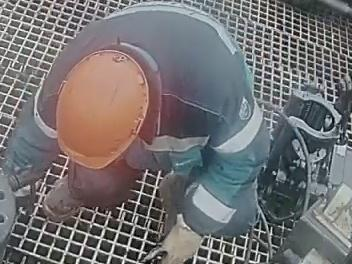gloves: (143, 214, 207, 264)
helmet: (54, 50, 150, 171)
vest: (37, 2, 271, 178)
